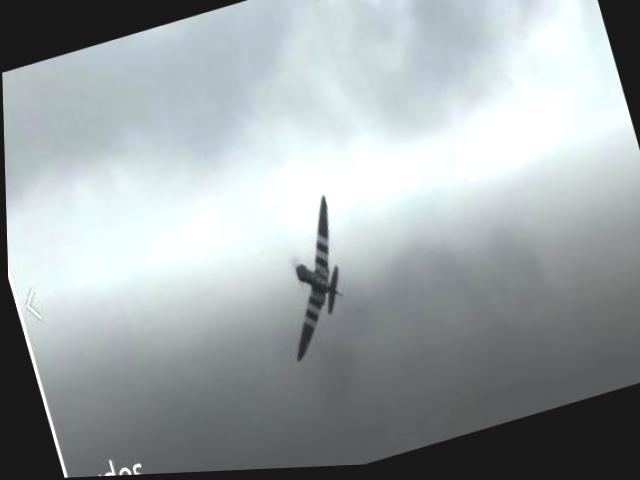uav: (245, 182, 373, 371)
